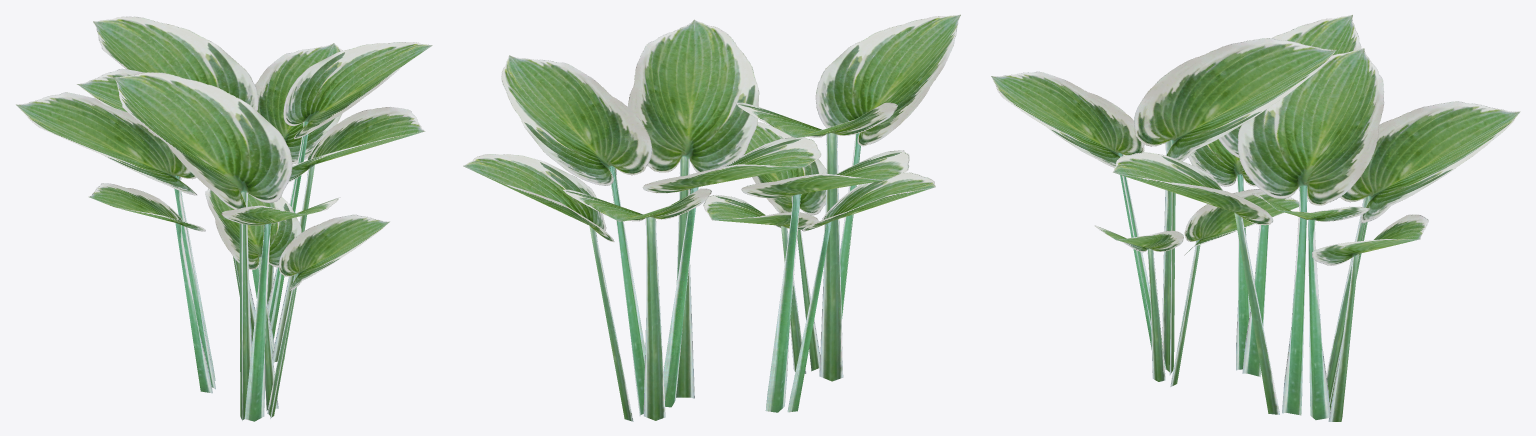
The model's file is plant_small_wg_05E.fbx.
3 views of the same model, side by side, from view 1: azimuth 30°, elevation 25°; view 2: azimuth 150°, elevation 25°; view 3: azimuth 270°, elevation 25° (orthographic). The views are drawn at different scales.
Visible parts, largest first — view 1: plant_small_wg_05E; view 2: plant_small_wg_05E; view 3: plant_small_wg_05E.
Boxes of the visible parts, x1=… form: plant_small_wg_05E: x1=16, y1=16, x2=432, y2=421; plant_small_wg_05E: x1=463, y1=14, x2=960, y2=421; plant_small_wg_05E: x1=991, y1=15, x2=1520, y2=421.
Size of the model in its own units: 55.76 by 41.02 by 66.01.
